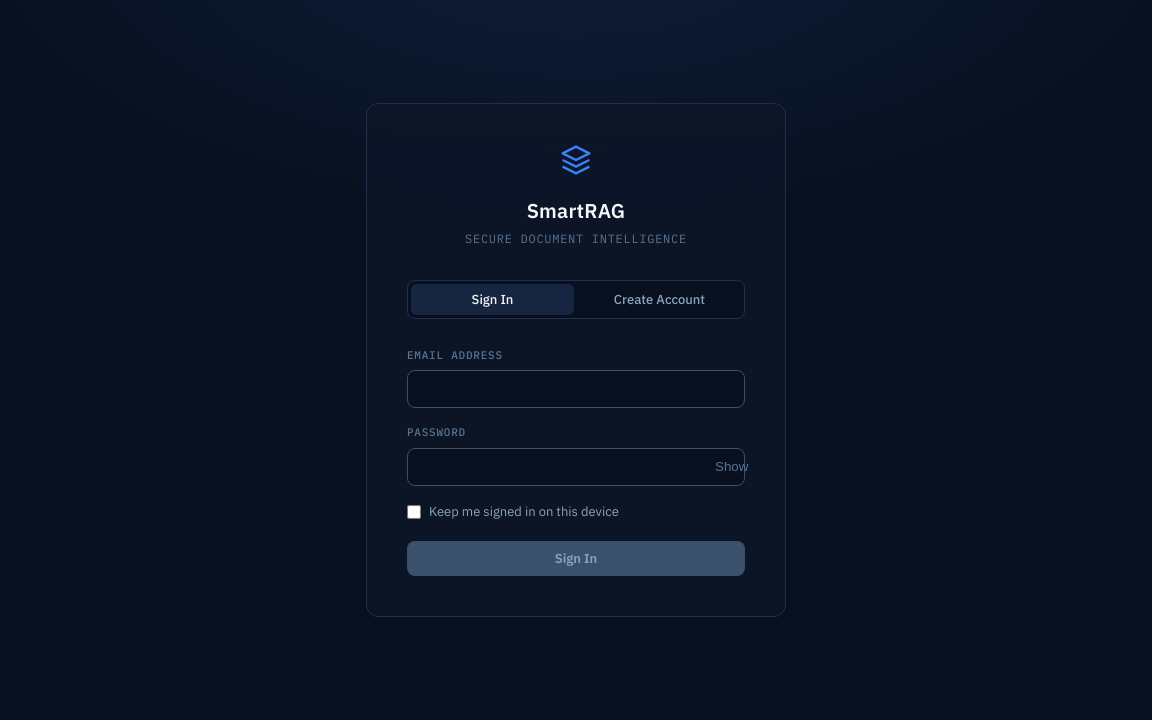
Test: authentication › signs in, stores the session for the tab only, and loads documents
Step 1. Type "me@x.y" into the field labelled "Email address" → (576, 389), box [407,370,745,408]
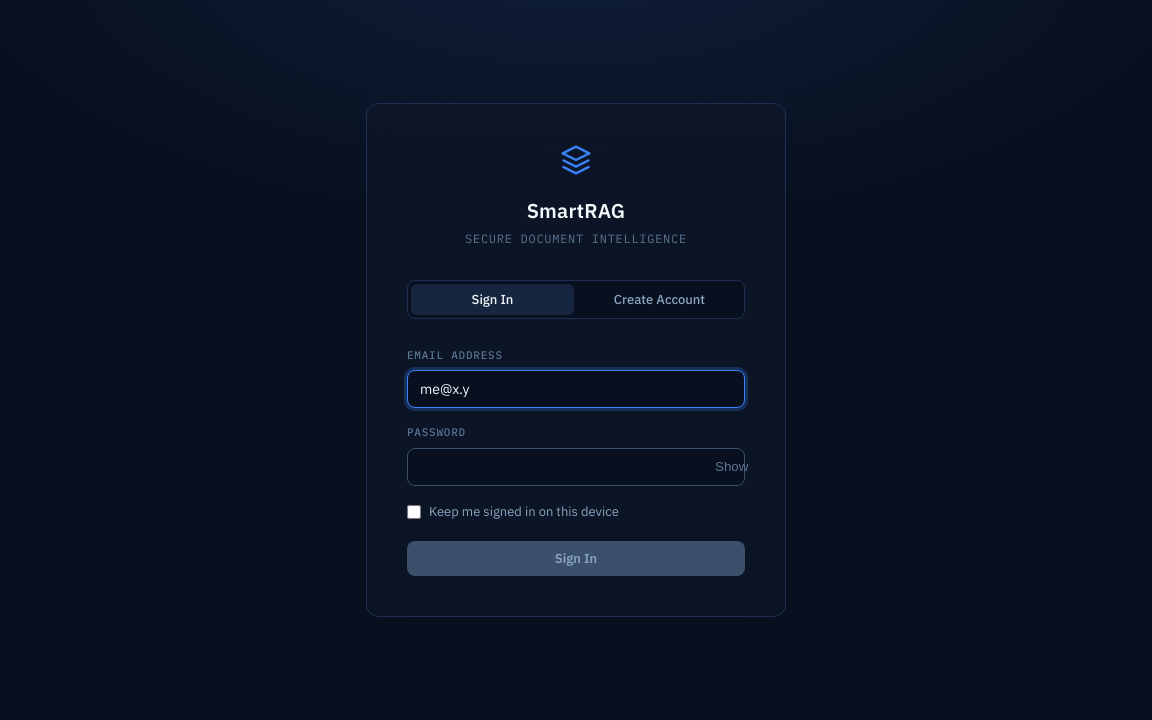
Step 2. Type "password123" into the password field labelled "Password" → (576, 467), box [407,448,745,486]
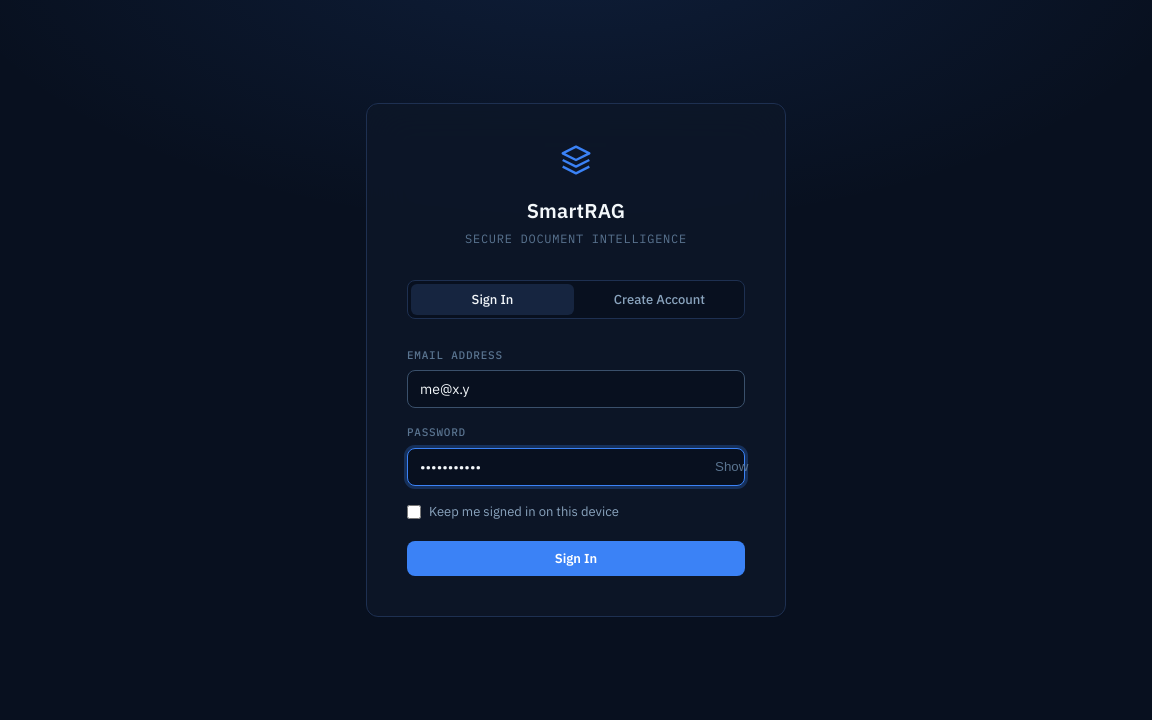
Step 3. Click the 2nd button "Sign In" → (576, 559), box [407,541,745,576]
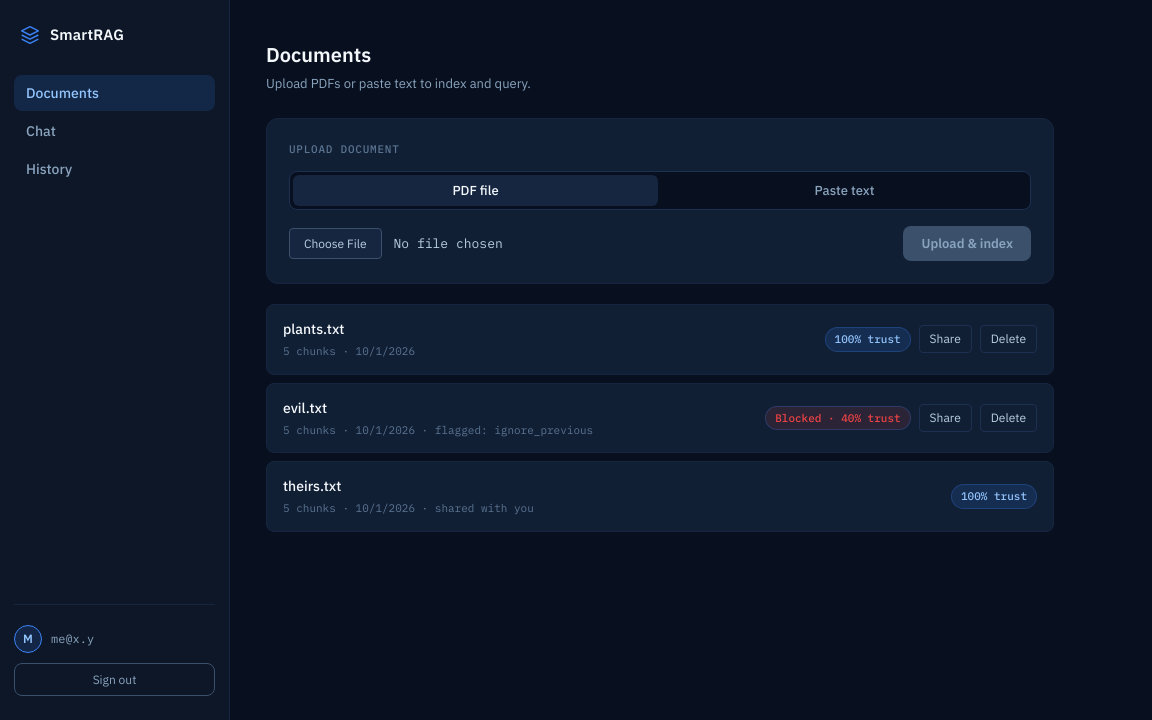
Check: the text "plants.txt" is shown, box [283,320,344,338]
